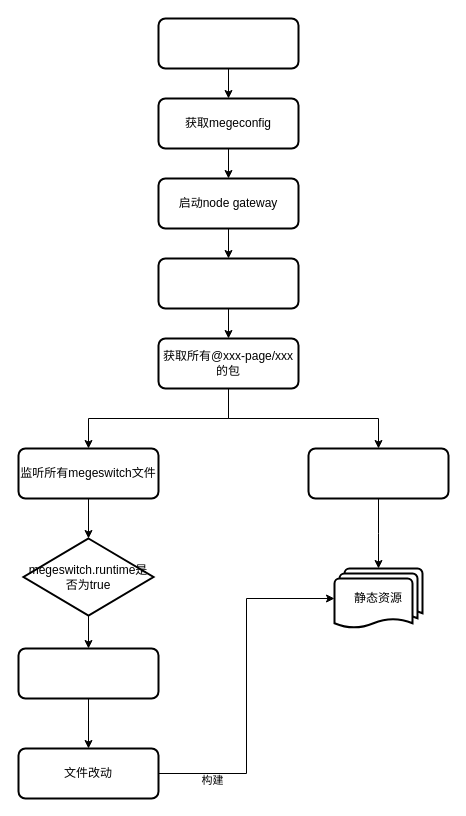
The diagram is 466 pixels wide and 816 high, and some of its shapes have lost their labels. Here are the shapes that lost their labels. From the top down, the box of each, then its label:
(157, 17, 299, 69): mege-cli serve
(157, 257, 299, 309): 根据megeconfig代理请求
(307, 447, 449, 499): 在网关注册静态资源代理
(17, 647, 159, 699): 创建compiler
